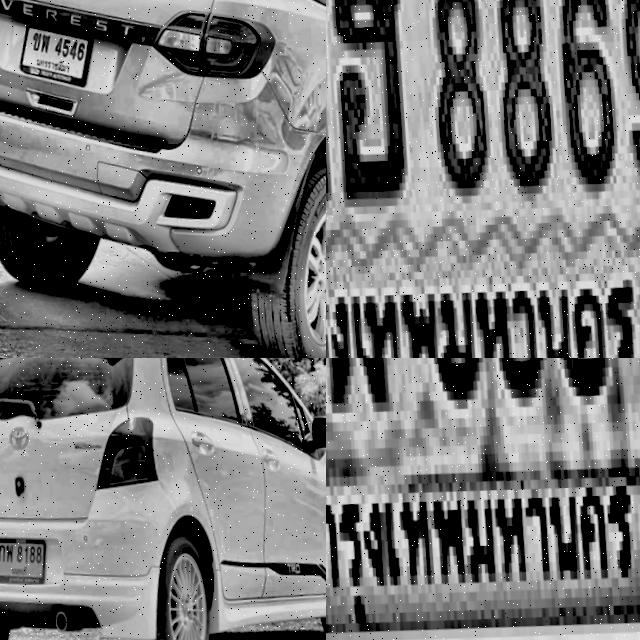license-plate: (326, 0, 640, 358), (326, 358, 640, 640), (15, 10, 99, 92), (0, 525, 58, 596)
